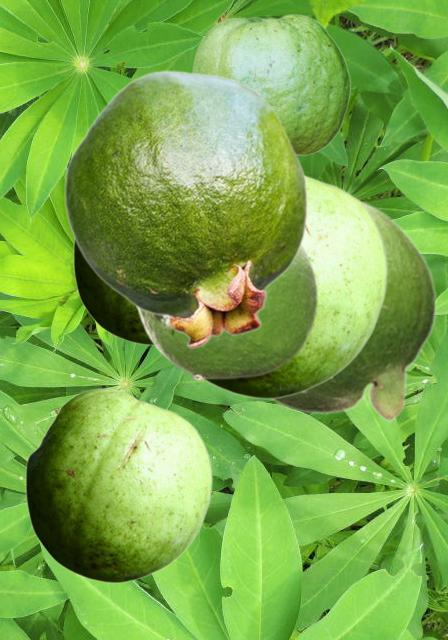guava: (63, 70, 307, 348), (204, 175, 386, 398), (268, 196, 436, 422), (25, 388, 211, 582), (134, 245, 318, 380), (192, 14, 350, 156), (73, 240, 151, 344)
